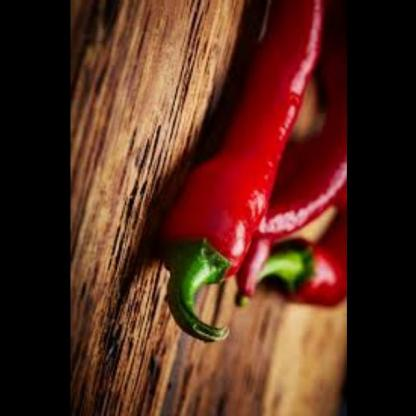hot pepper: (153, 0, 327, 354), (238, 146, 348, 291), (237, 214, 347, 314)
